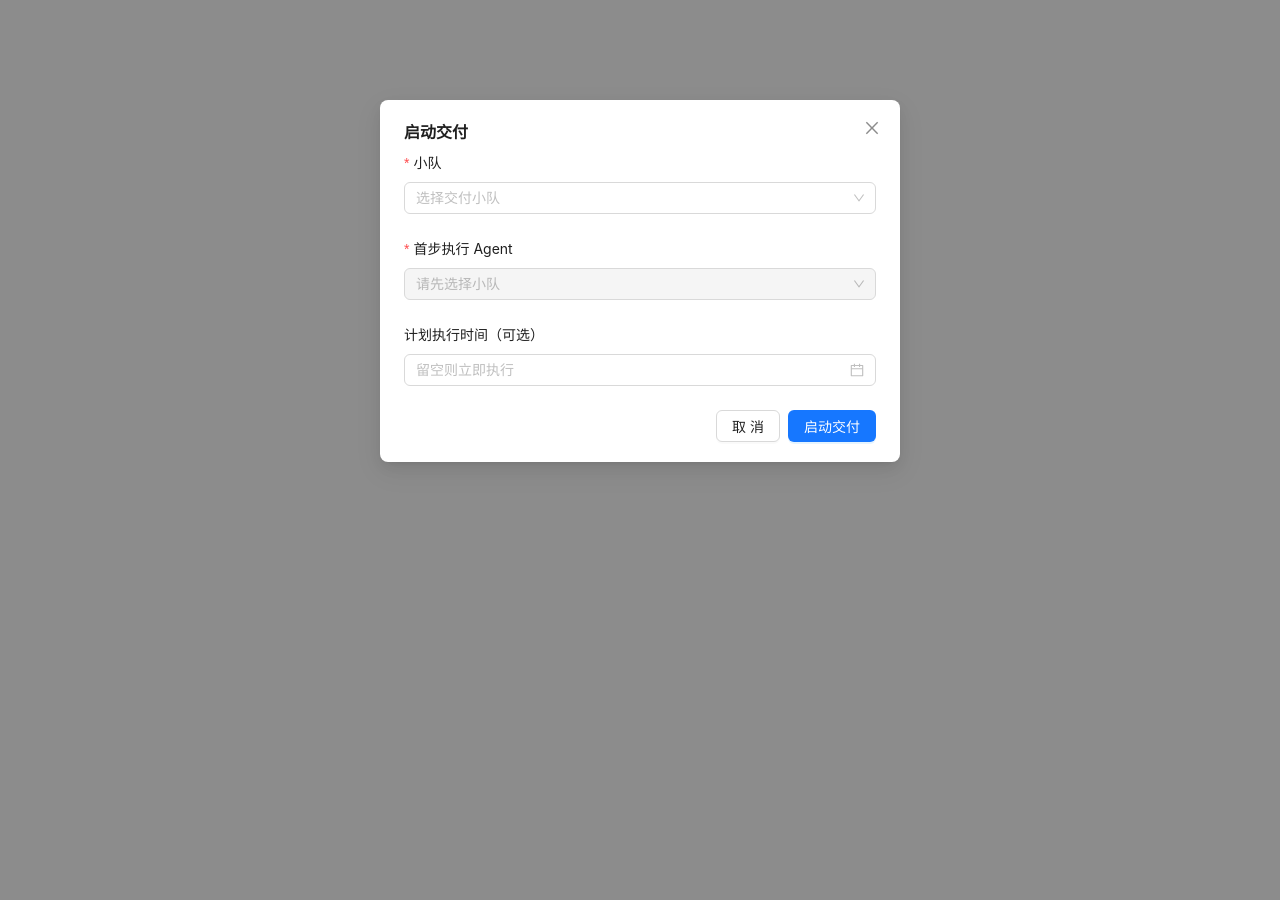
Test: StartDeliveryModal › excludes platform agents from first-step executor options
This screenshot has width=1280, height=900.
Click the dropdown labelled "小队" at point(430, 163), box [404,152,456,174]
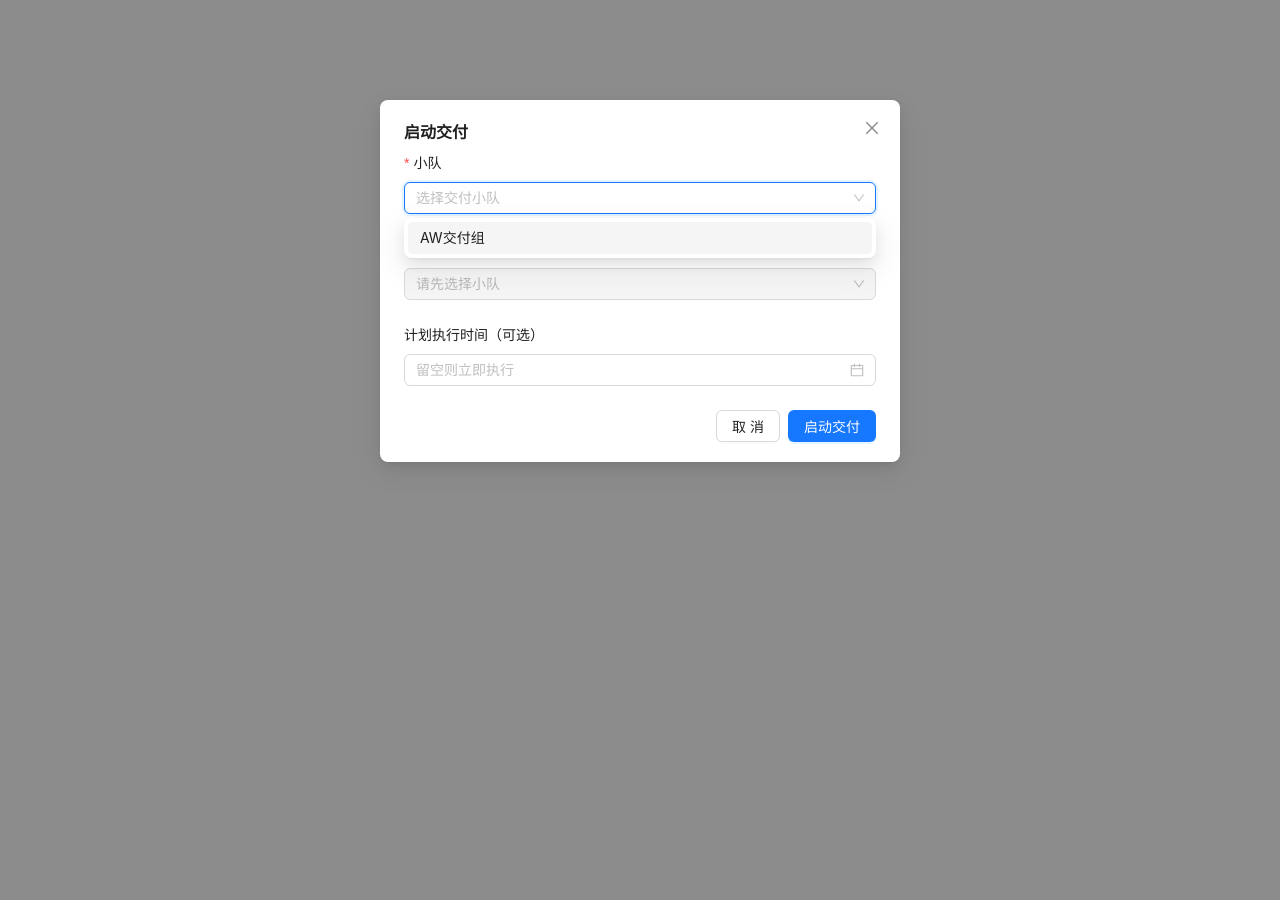
Click the text "AW交付组" at point(452, 238), box [420,229,485,246]
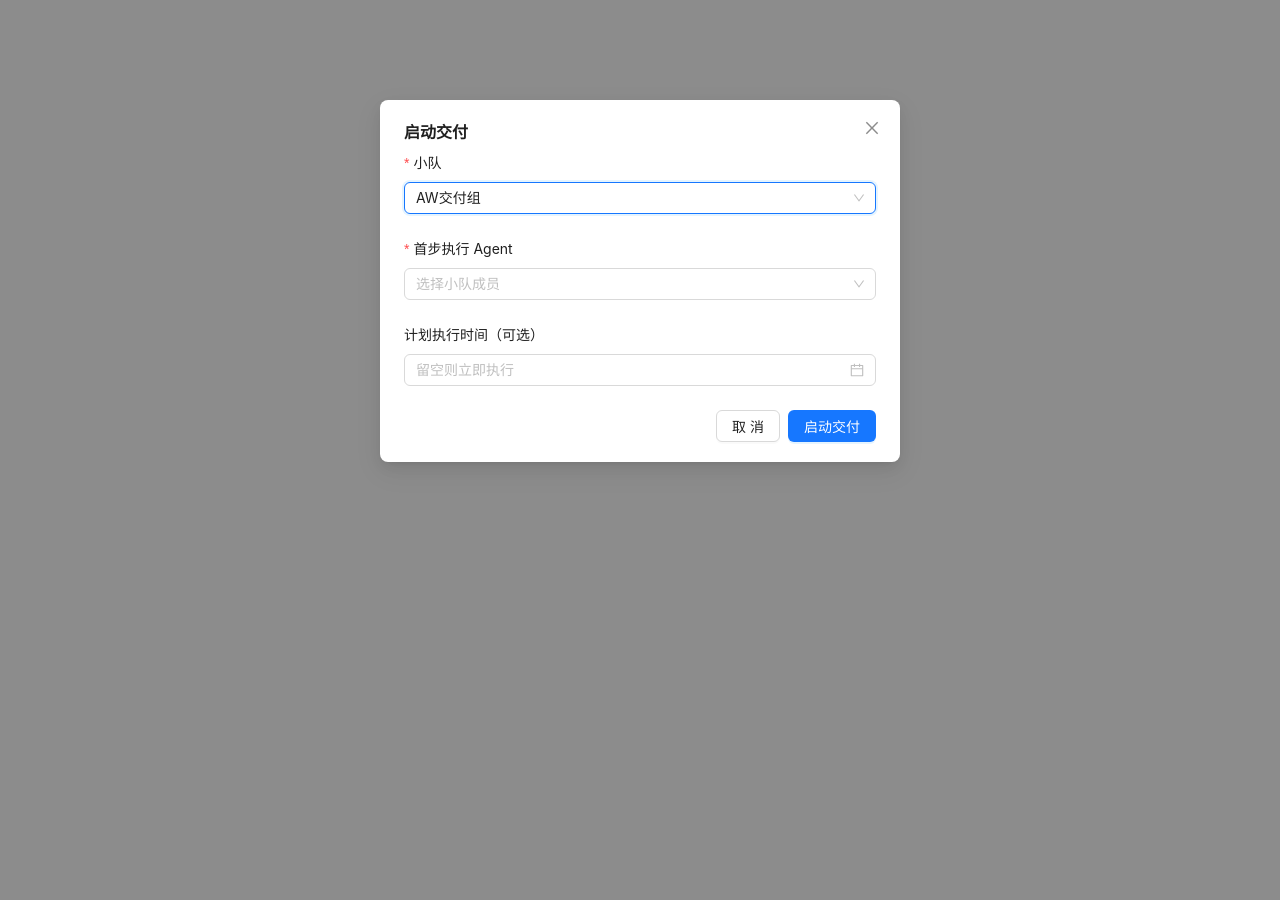
Click the dropdown labelled "首步执行 Agent" at point(463, 248), box [414,240,513,257]
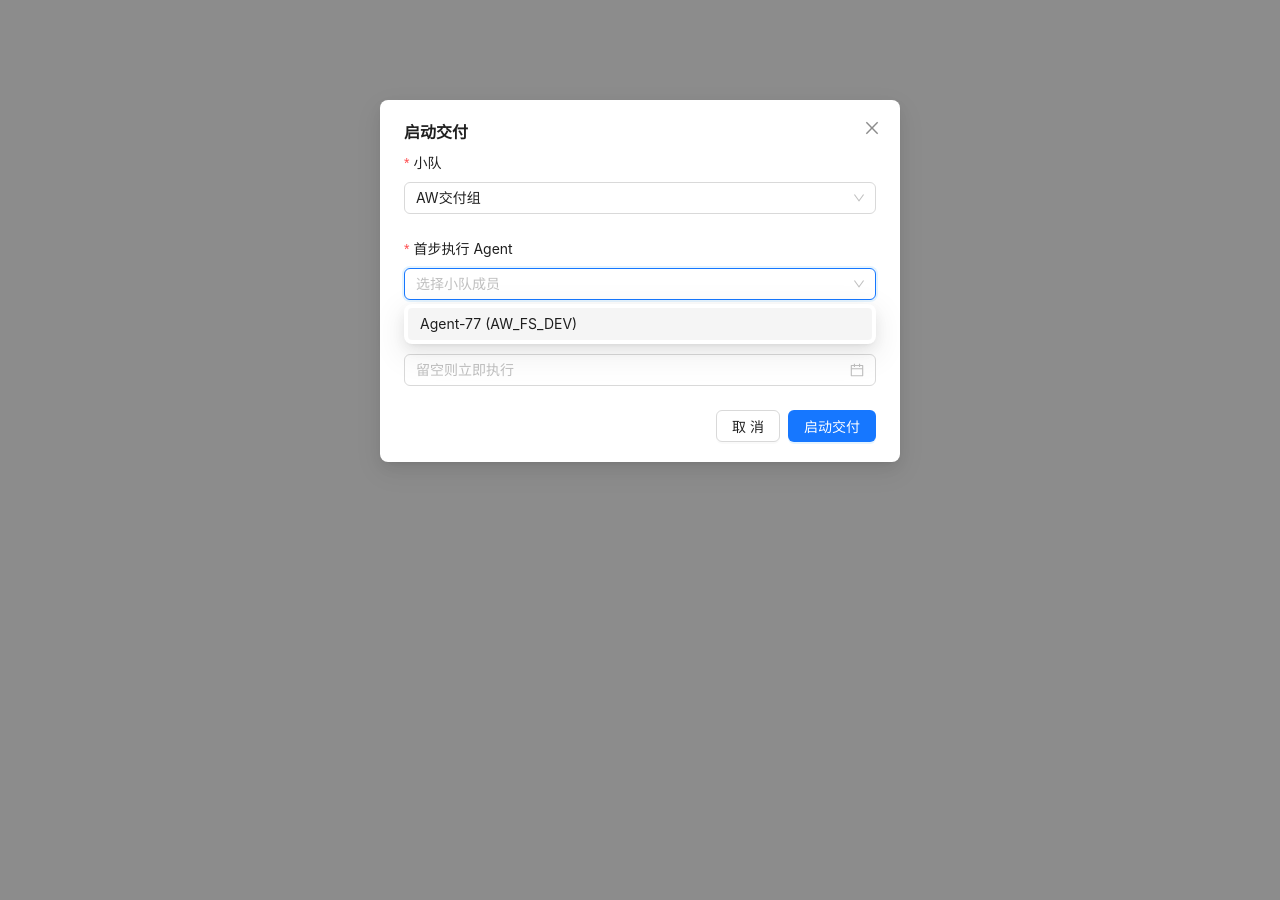
Now the text "Agent-77 (AW_FS_DEV)" is shown, box [420,315,577,332]
